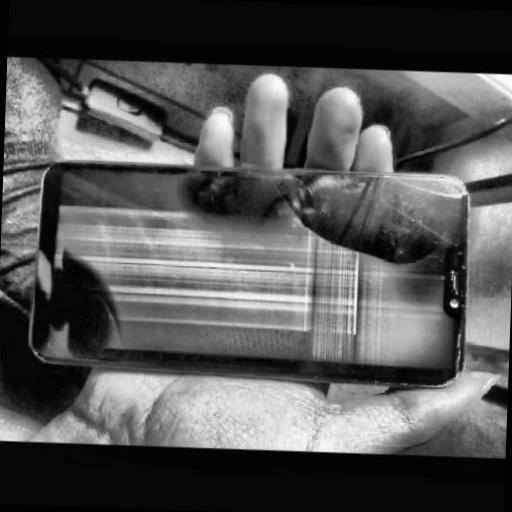phone: (27, 150, 468, 388)
